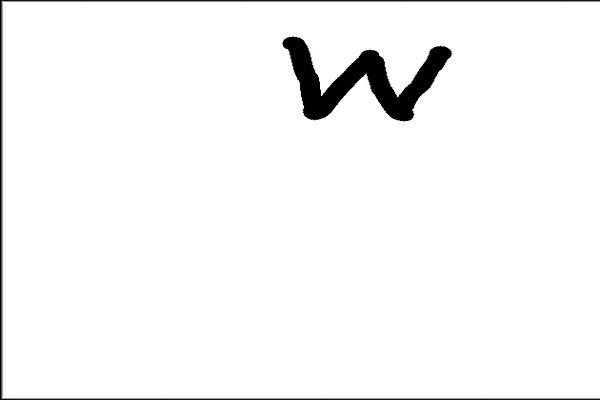w: (262, 27, 454, 128)
